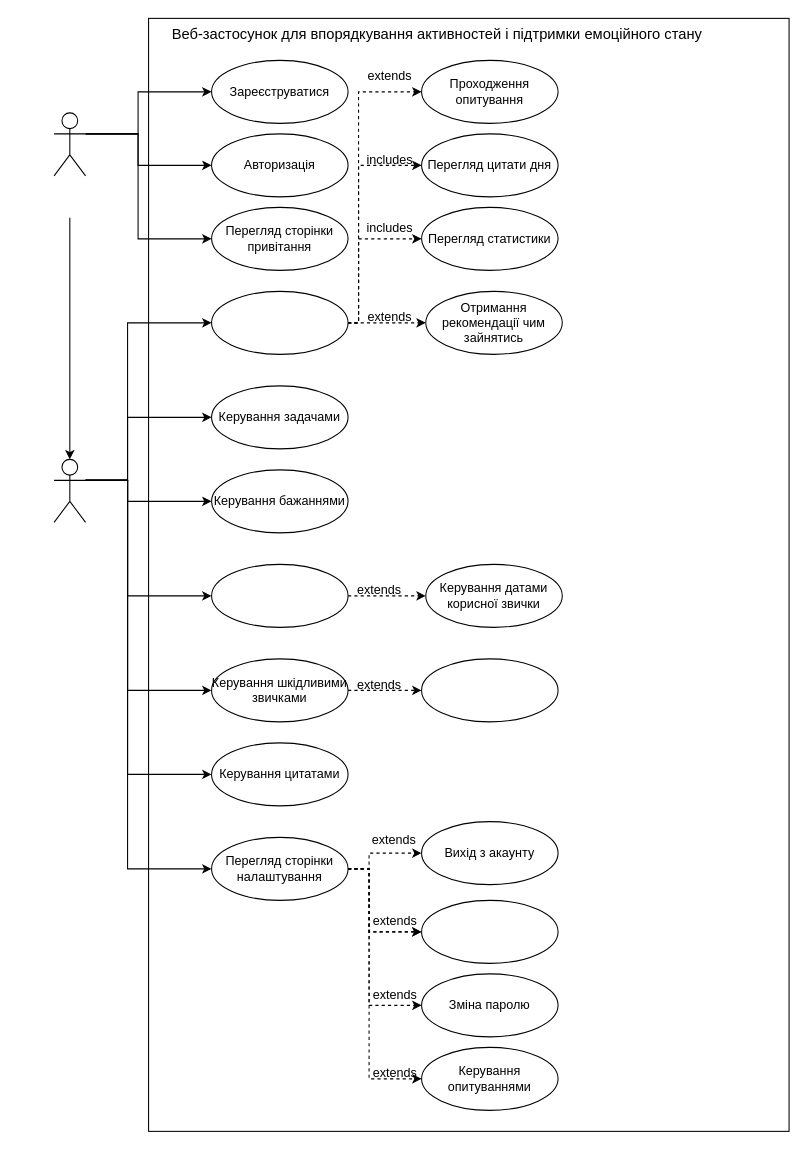
This 807x1150 diagram has some shape labels left out. Each missing label, with the centre of its shape:
Авторизований користувач: (69,490)
Зміна джерела цитати: (489,931)
Керування датами шкідливої звички: (489,690)
Керування корисними звичками: (279,595)
Неавторизований користувач: (69,144)
Перегляд головної сторінки: (279,322)
